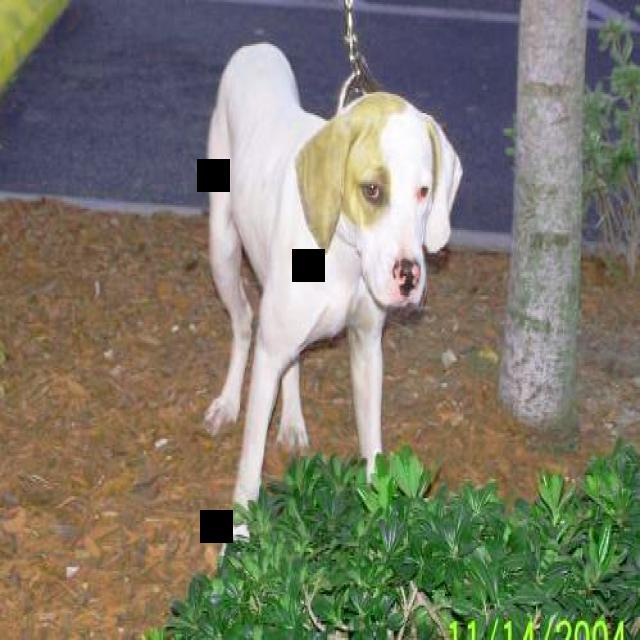adult_dog: (202, 41, 468, 543)
